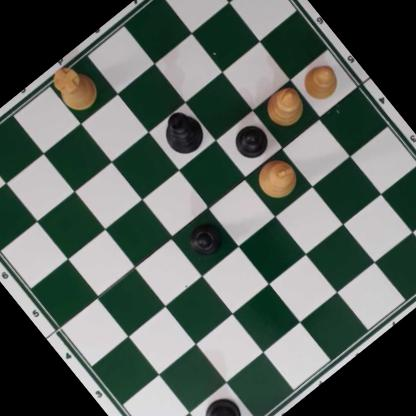black-king: (153, 104, 211, 162)
black-pawn: (226, 117, 273, 165), (181, 217, 226, 263)
black-rook: (195, 392, 253, 416)
white-bishop: (259, 81, 312, 134)
white-king: (250, 151, 304, 205)
white-pawn: (294, 58, 342, 106)
white-rook: (44, 56, 105, 118)
